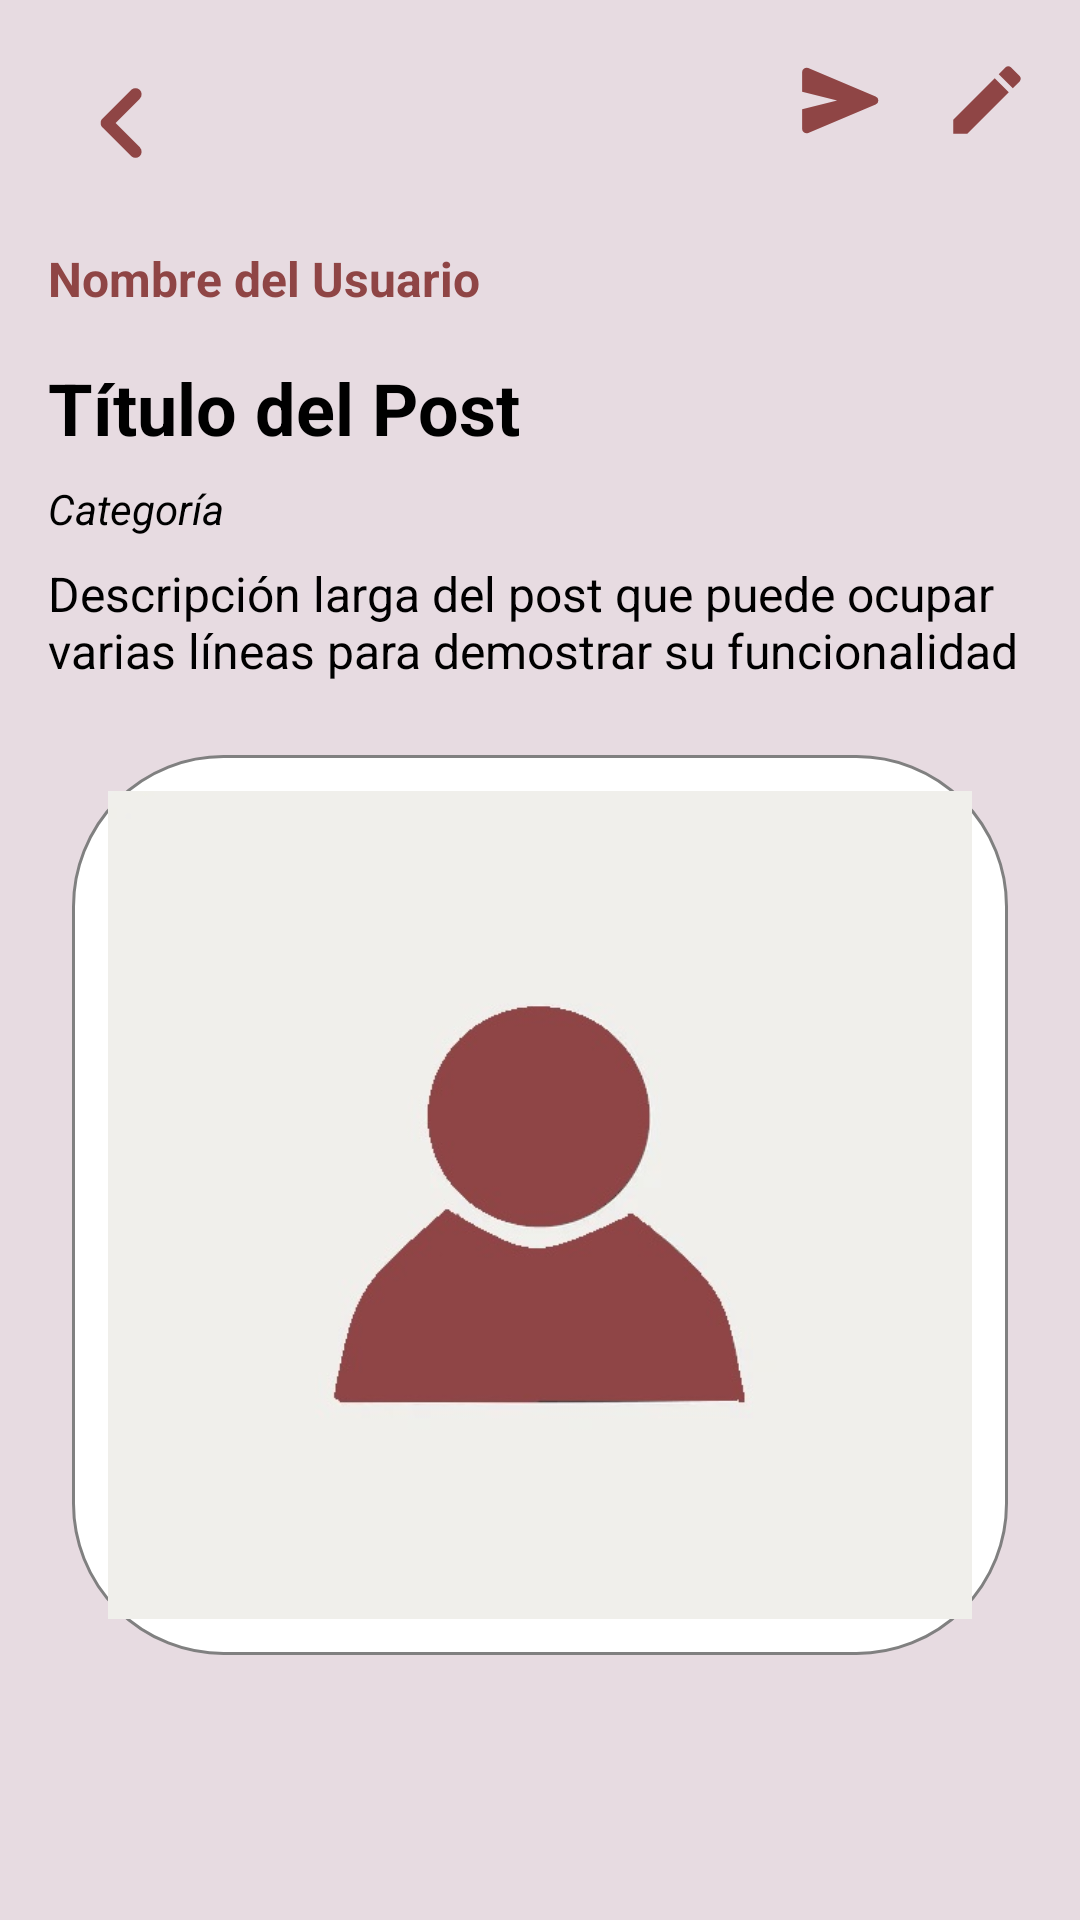

Icons on this 1080px x 1920px Android screen, each with the point to tap as point (x, y):
Editar Post: point (987, 100)
Enviar Mensaje: point (840, 100)
Volver: point (121, 123)
